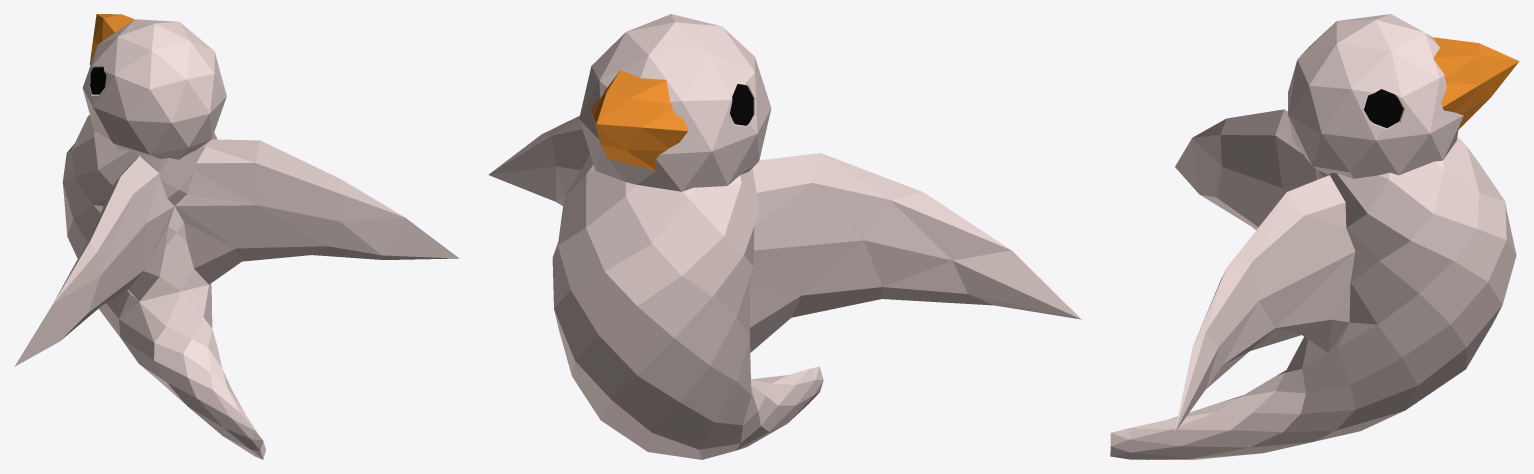
File: asset.glb
The picture shows the model from 3 angles, left to right: view 1: azimuth 30°, elevation 25°; view 2: azimuth 150°, elevation 25°; view 3: azimuth 270°, elevation 25°; orthographic projection. The views are drawn at different scales.
Visible parts, largest first — view 1: Bevy_Bird; view 2: Bevy_Bird; view 3: Bevy_Bird.
Boxes of the visible parts, x1,y1,x2,y2 form: Bevy_Bird: [14, 14, 459, 459]; Bevy_Bird: [488, 14, 1081, 459]; Bevy_Bird: [1110, 14, 1519, 459].
Bounding box in the file's own units: 1.86 × 1.44 × 1.21.
